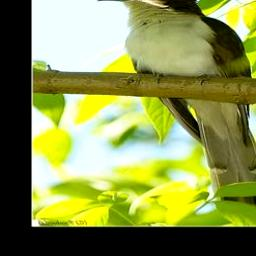Cuckoo: (97, 0, 256, 221)
